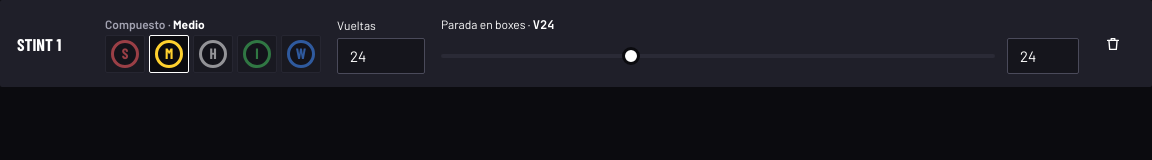
Test: StintRow › clamps a laps value above the race length so it never exceeds what the race allows
Replace the text in the number field named "Vueltas del stint 1" with "1000000" at (381, 56), box [337, 38, 425, 74]
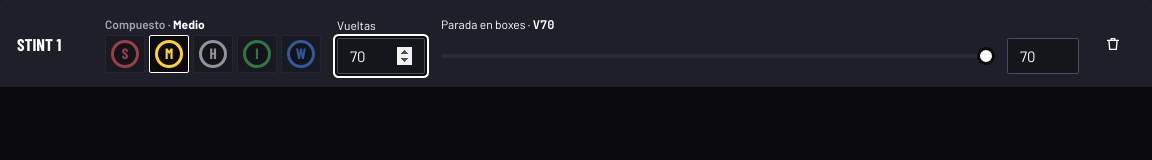
Check: the number field named "Vueltas del stint 1" holds "70", box [337, 38, 425, 74]
